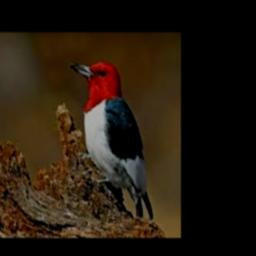Woodpecker: (71, 61, 154, 221)
